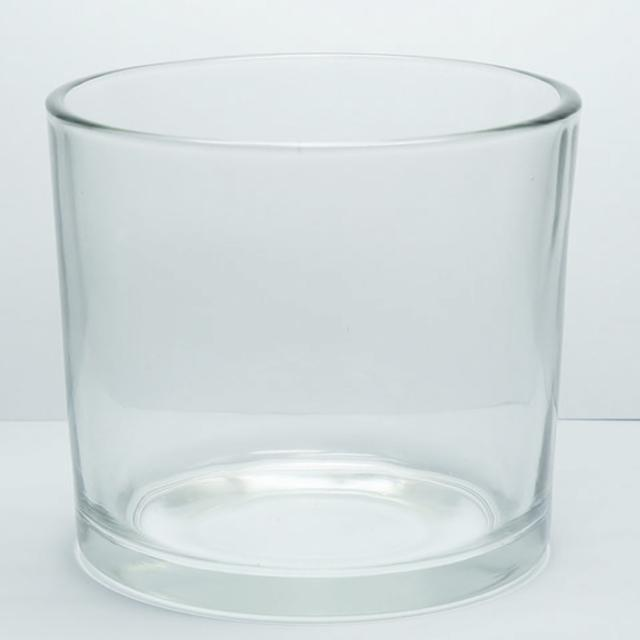recyclable: (17, 31, 608, 627)
